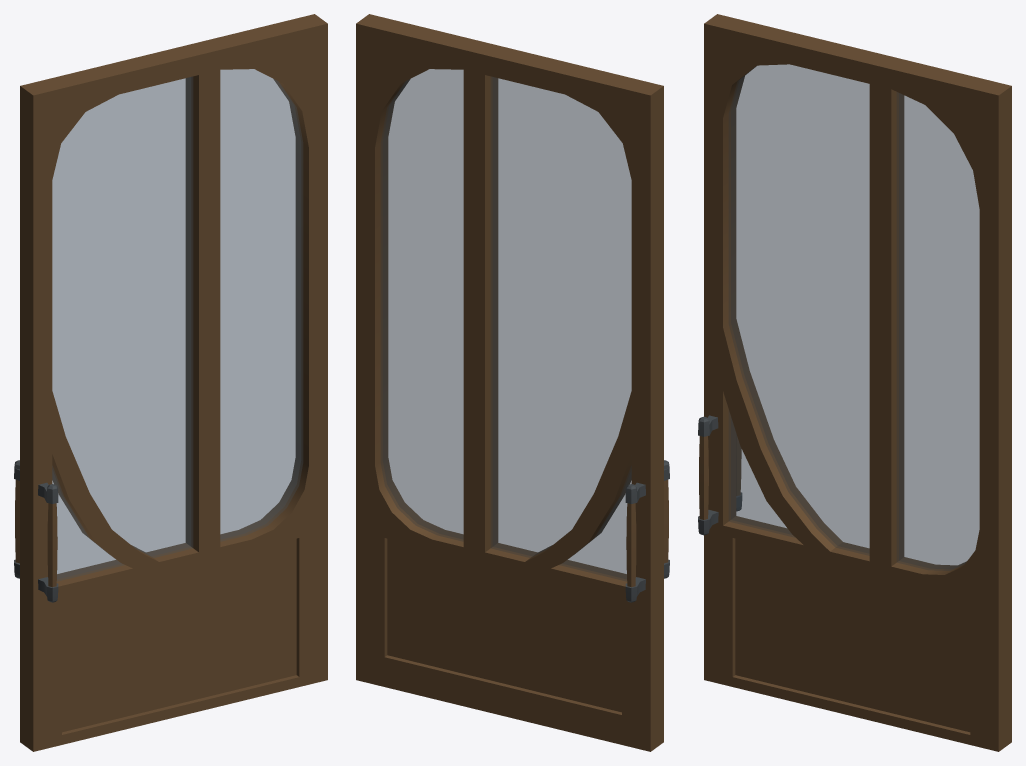
File: SM_Buildings_University_01_Door_01_R.fbx
3 views of the same model, side by side, from view 1: azimuth 30°, elevation 25°; view 2: azimuth 150°, elevation 25°; view 3: azimuth 330°, elevation 25° (orthographic).
Visible parts, largest first — view 1: SM_Buildings_University_01_Door_01_R; view 2: SM_Buildings_University_01_Door_01_R; view 3: SM_Buildings_University_01_Door_01_R.
Part boxes in pixels (box(x1,y1,x2,y2)): SM_Buildings_University_01_Door_01_R: box(14, 14, 327, 751); SM_Buildings_University_01_Door_01_R: box(356, 14, 669, 751); SM_Buildings_University_01_Door_01_R: box(698, 14, 1011, 751).
Bounding box in the file's own units: 1.55 × 3.3 × 0.3509.
